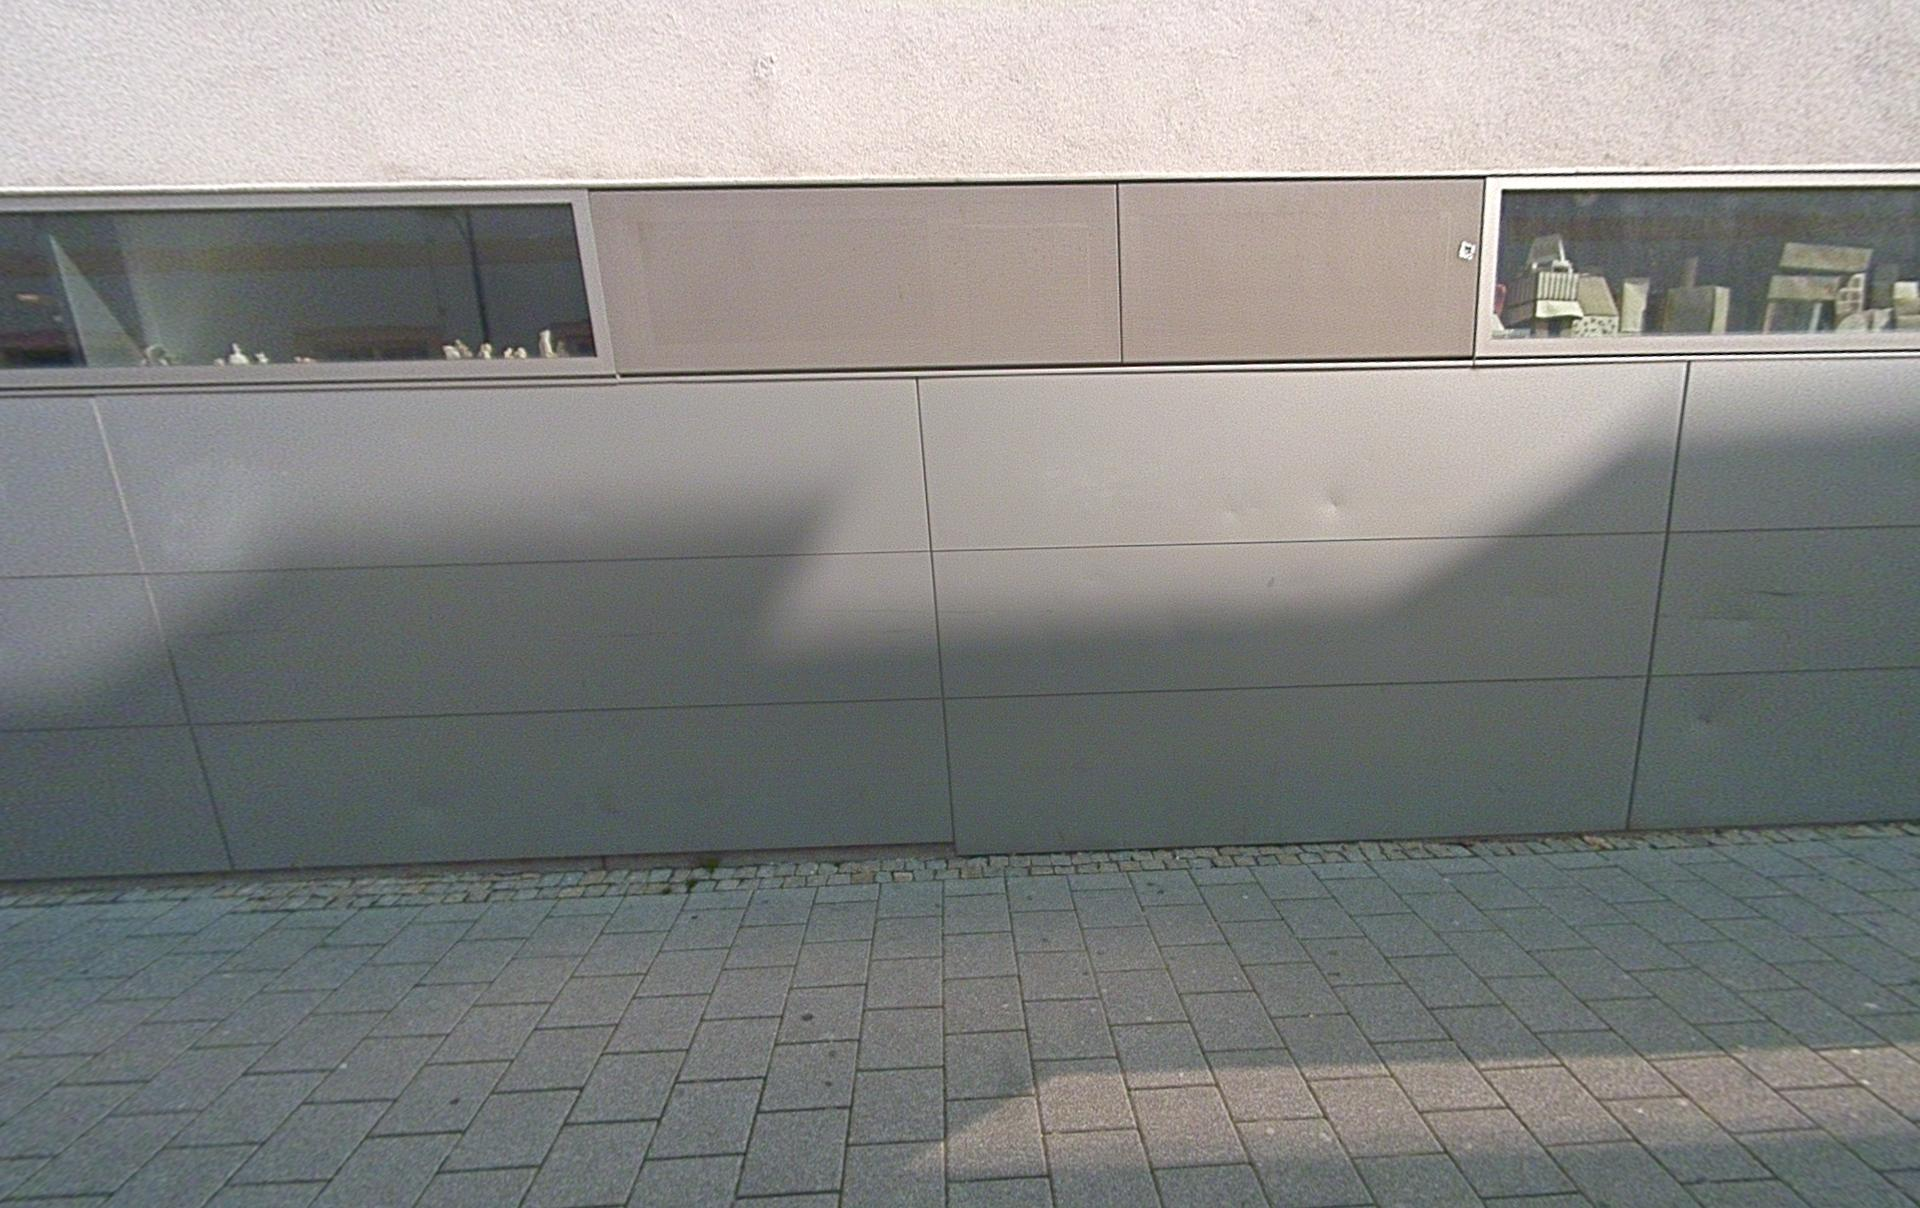car: (1496, 232, 1619, 338)
